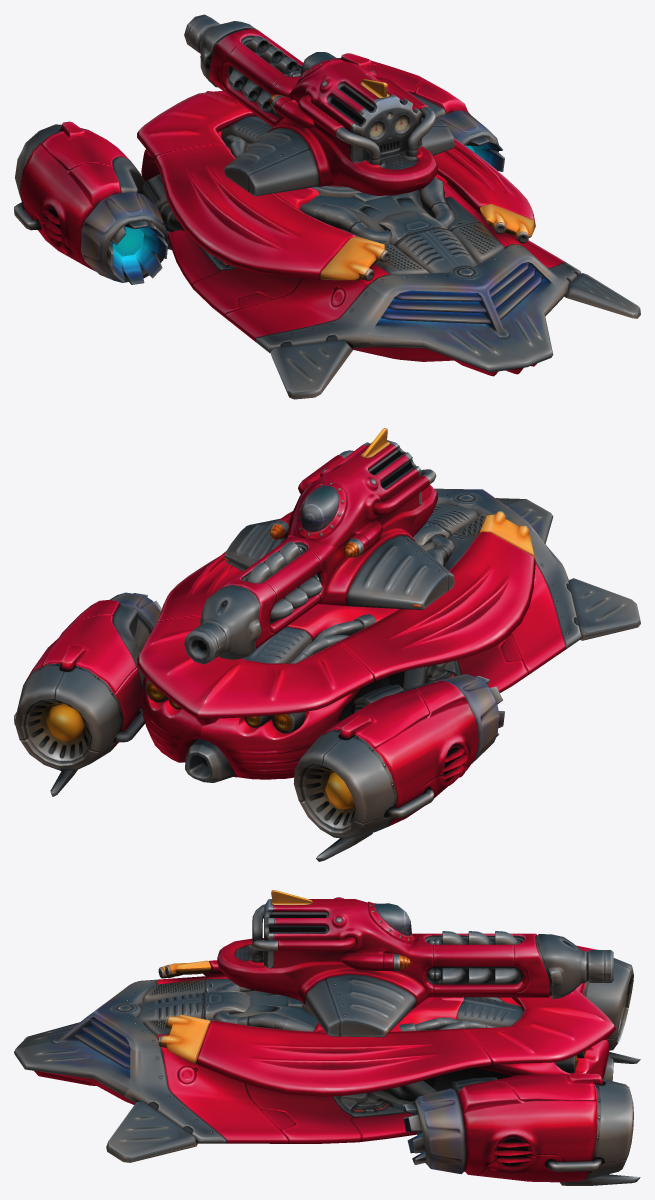
The model's file is RF_RicochetPaladin.glb.
3 views of the same model, one above another, from view 1: azimuth 30°, elevation 25°; view 2: azimuth 150°, elevation 25°; view 3: azimuth 270°, elevation 25° (orthographic). The views are drawn at different scales.
Visible parts, largest first — view 1: hull, turret; view 2: hull, turret; view 3: hull, turret.
Part boxes in pixels (x1,y1,x2,y2): hull: (14, 53, 640, 399); turret: (184, 14, 454, 196); hull: (14, 488, 640, 861); turret: (184, 428, 454, 664); hull: (14, 945, 640, 1185); turret: (217, 890, 613, 1037).
Bounding box in the file's own units: 449 × 264 × 645.
2 materials, 2 textured.
